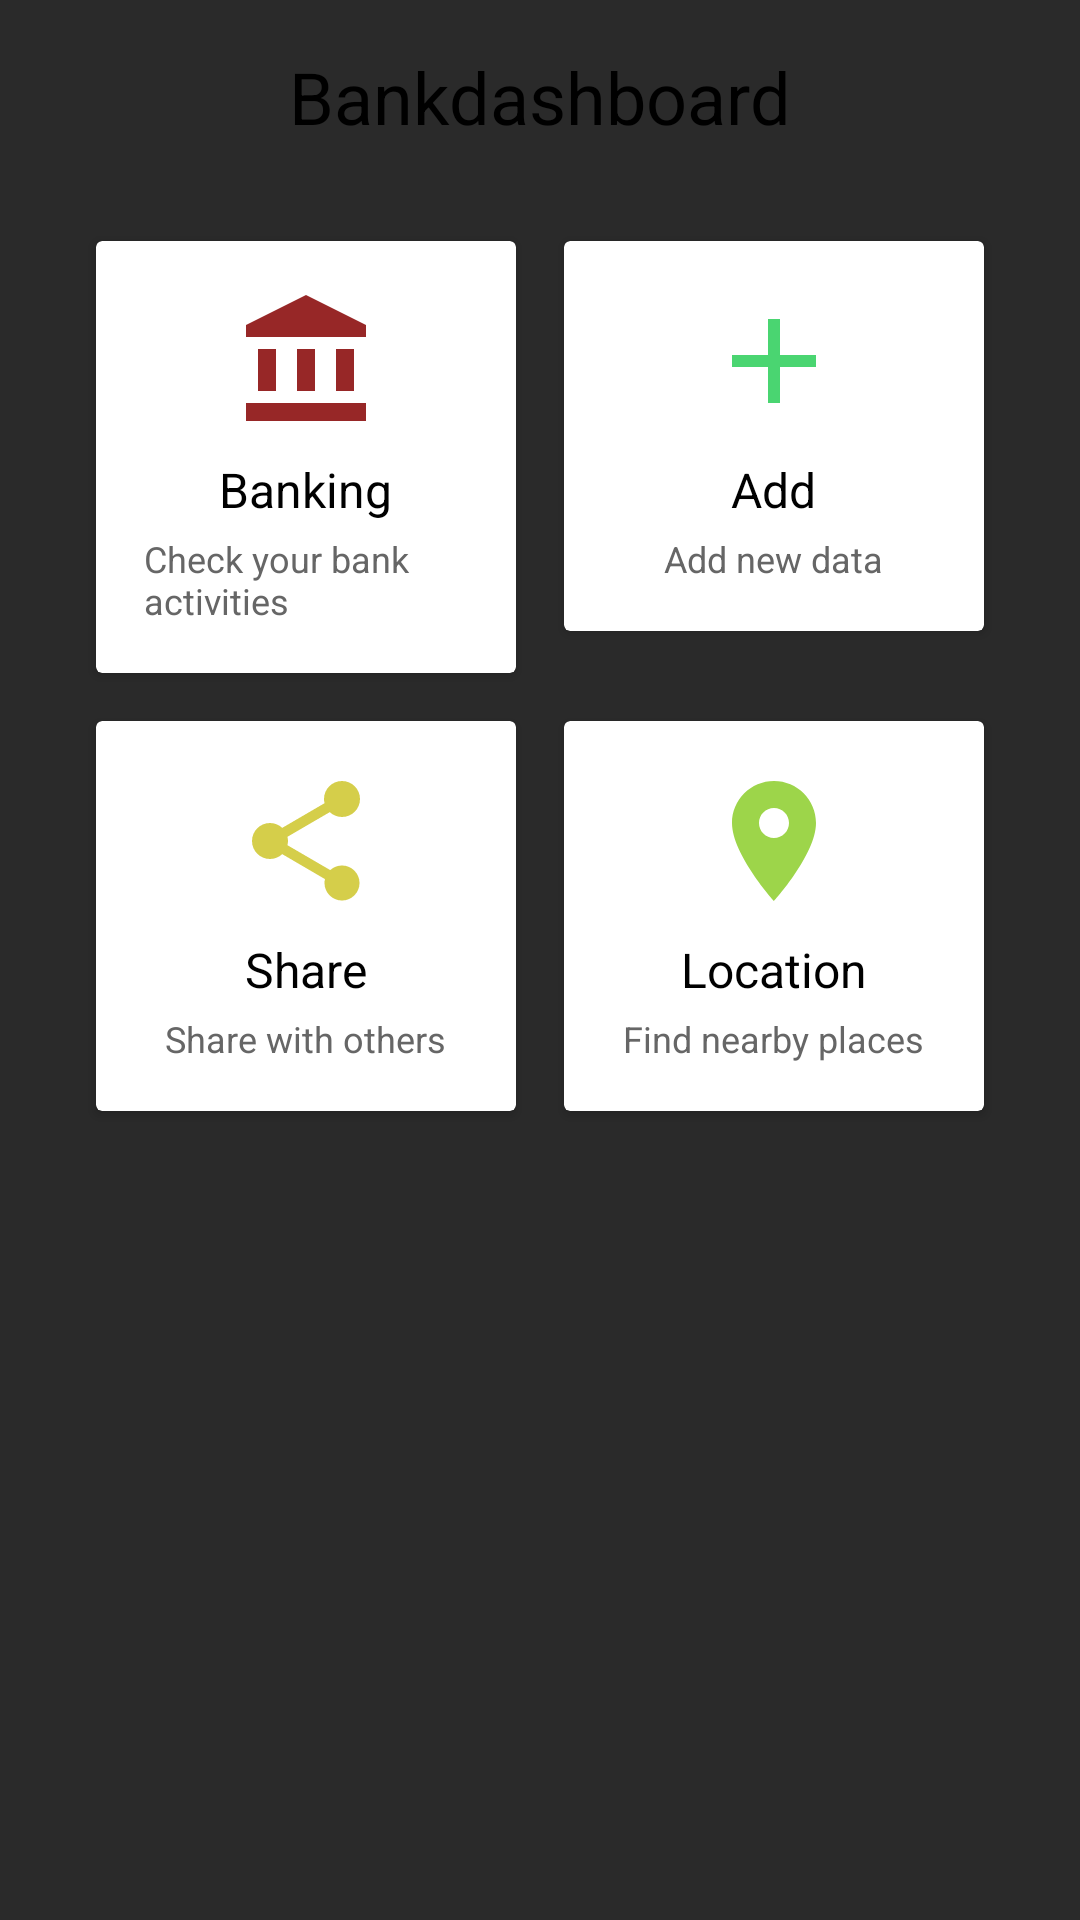

Where icons sit on this 1080x1920 app screen, as (x1, y1, x2, y2):
account balance: (246, 295, 366, 421)
